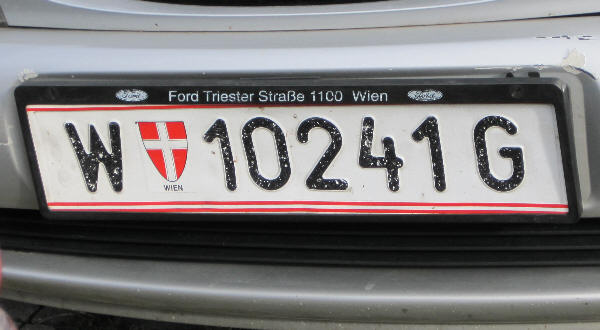license_plate: (25, 103, 571, 213)
